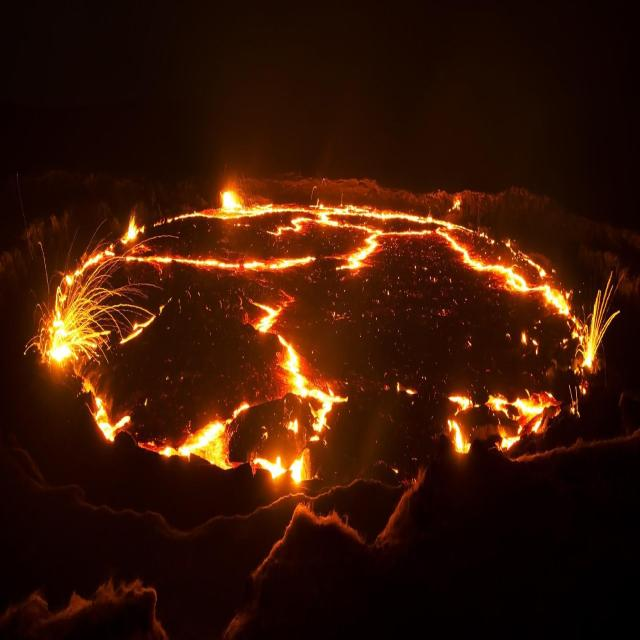fire: (22, 129, 623, 515)
